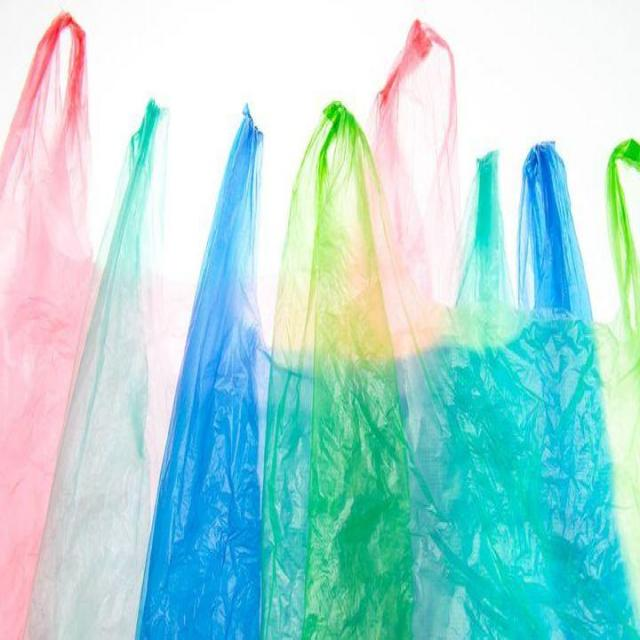plastic_bag: (8, 15, 469, 640), (152, 124, 634, 640), (54, 107, 510, 640), (281, 109, 640, 640)
